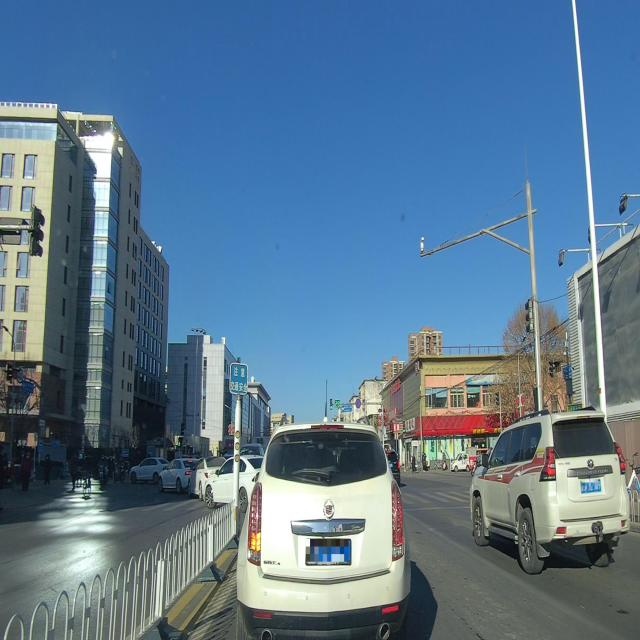Traffic Light -Green-: (330, 398, 333, 410)
Traffic Light -Off-: (29, 203, 45, 259), (523, 296, 535, 335), (547, 358, 555, 378)
